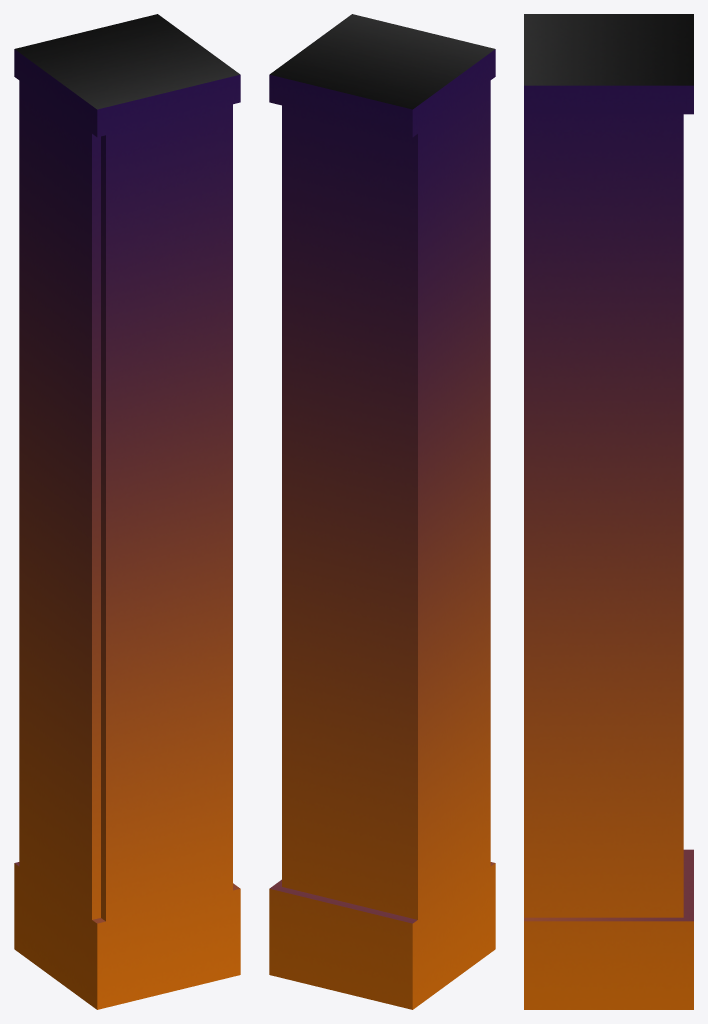
The model's file is wallcorner.glb.
3 views of the same model, side by side, from view 1: azimuth 30°, elevation 25°; view 2: azimuth 150°, elevation 25°; view 3: azimuth 270°, elevation 25° (orthographic). The views are drawn at different scales.
Visible parts, largest first — view 1: wall_corner; view 2: wall_corner; view 3: wall_corner.
Part boxes in pixels (x1=…): wall_corner: x1=14, y1=14, x2=240, y2=1009; wall_corner: x1=269, y1=14, x2=495, y2=1009; wall_corner: x1=524, y1=14, x2=693, y2=1009.
Bounding box in the file's own units: 0.5 × 3 × 0.5.
1 material, 1 textured.
